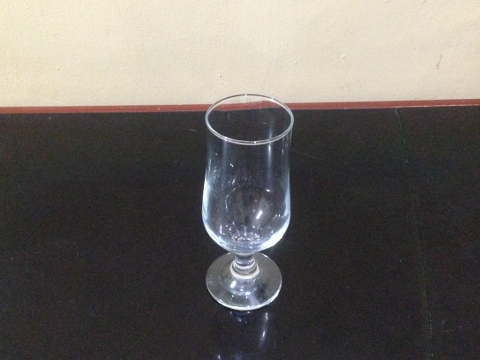tempat minum: (200, 93, 294, 311)
